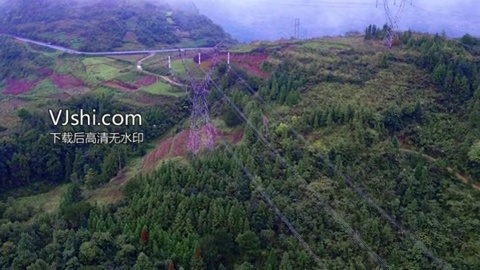tower_body: (164, 44, 237, 154)
tower_foot: (187, 126, 216, 152)
tower_head: (167, 46, 233, 94)
